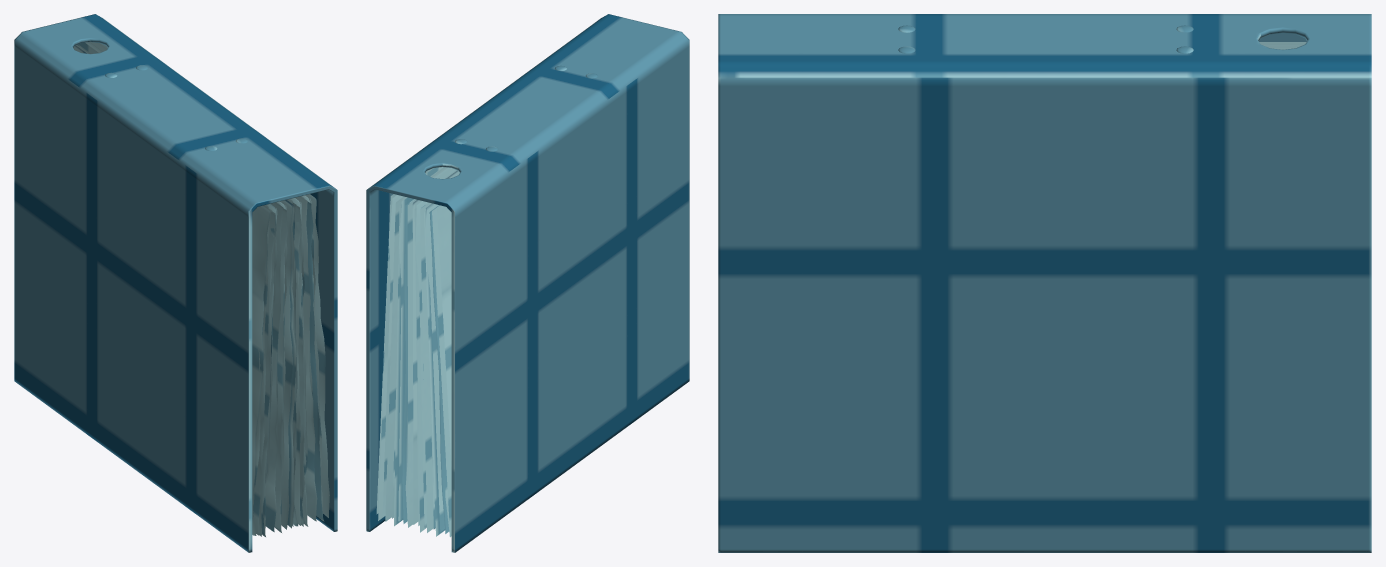
The model's file is cyan_grid_book.obj.
3 views of the same model, side by side, from view 1: azimuth 30°, elevation 25°; view 2: azimuth 150°, elevation 25°; view 3: azimuth 270°, elevation 25° (orthographic). The views are drawn at different scales.
Visible parts, largest first — view 1: cyan_grid_book_Chocofur_Office_06.000, cyan_grid_book_Chocofur_Office_06.002; view 2: cyan_grid_book_Chocofur_Office_06.000, cyan_grid_book_Chocofur_Office_06.002; view 3: cyan_grid_book_Chocofur_Office_06.000.
Boxes of the visible parts, x1,y1,x2,y2 form: cyan_grid_book_Chocofur_Office_06.000: [14, 14, 337, 552]; cyan_grid_book_Chocofur_Office_06.002: [73, 42, 329, 536]; cyan_grid_book_Chocofur_Office_06.000: [366, 14, 689, 552]; cyan_grid_book_Chocofur_Office_06.002: [376, 167, 459, 537]; cyan_grid_book_Chocofur_Office_06.000: [718, 14, 1371, 552].
Size of the model in its own units: 0.0755 by 0.2833 by 0.3455.
3 materials, 3 textured.
